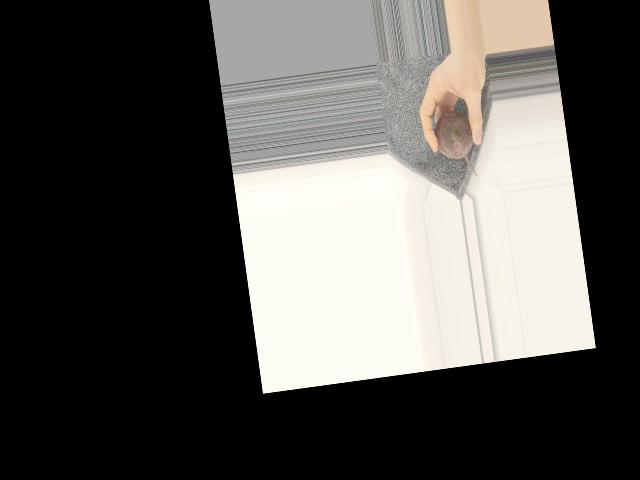beet: (432, 109, 478, 181)
